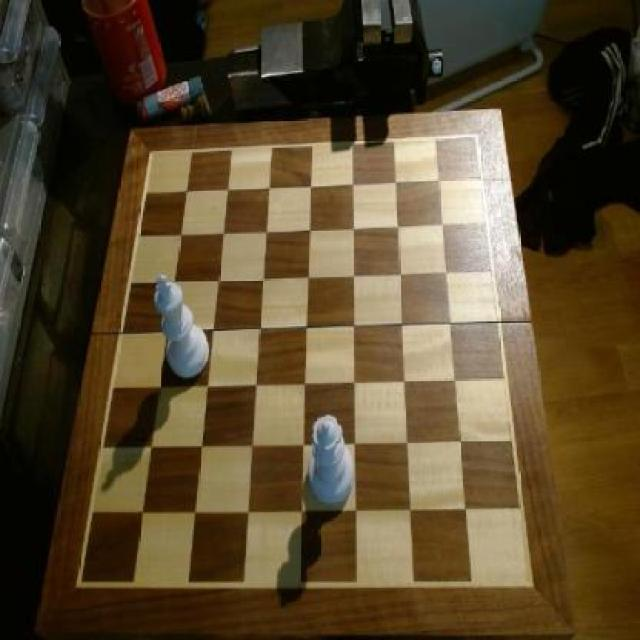white-bishop: (152, 272, 208, 385)
white-pawn: (308, 412, 355, 508)
